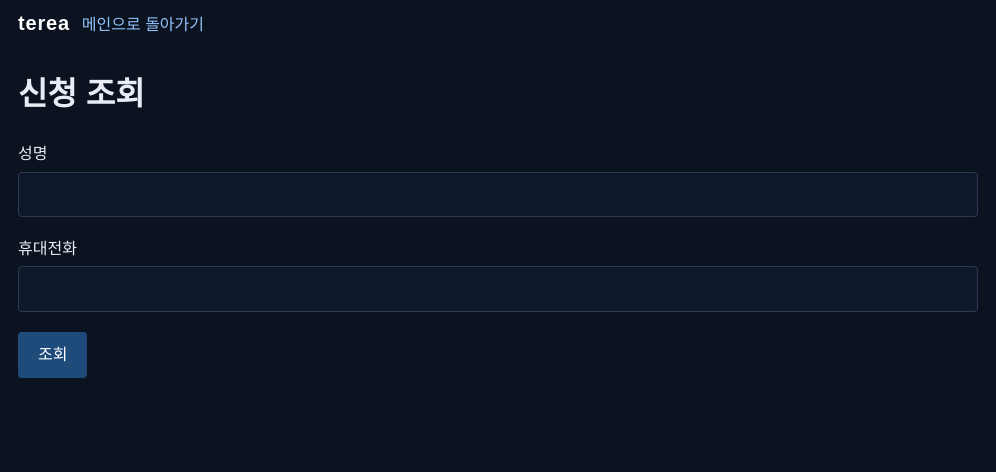
Test: R16: 방문 신청 조회 텍스트 대비 › 다크 테마에서도 조회 결과 성명·상태가 렌더된다
Type "terea방문테스터" into the field labelled "성명" at (498, 194), box x1=18 y1=172 x2=978 y2=217
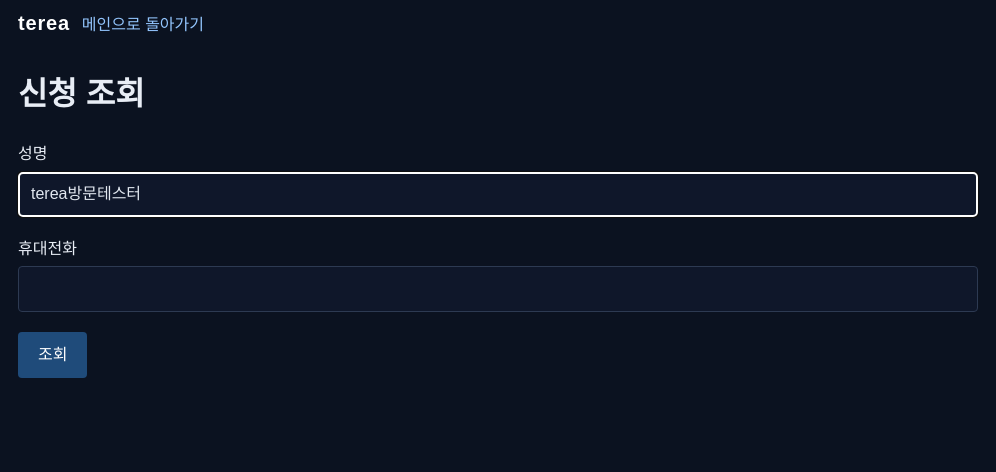
Type "01022223333" into the field labelled "휴대전화" at (498, 289), box x1=18 y1=266 x2=978 y2=312
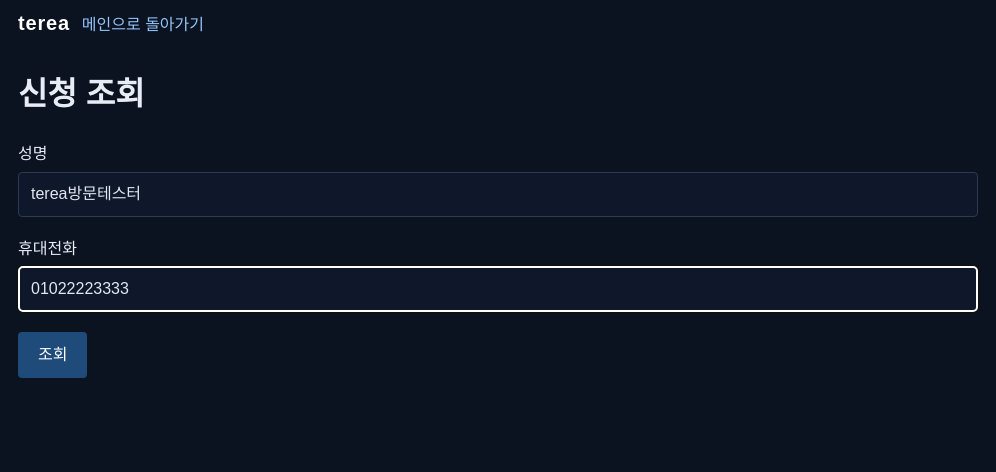
Click the button "조회" at (53, 355), box x1=18 y1=332 x2=88 y2=378
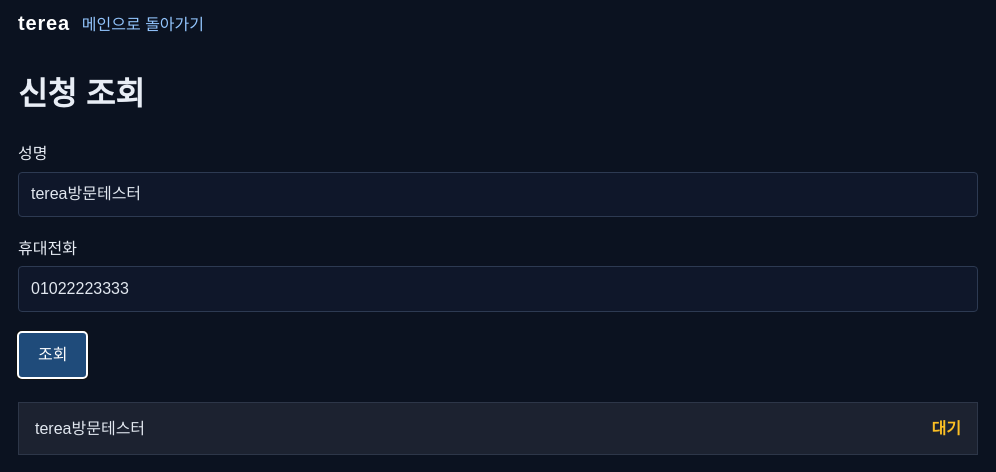
Now the text "대기" is shown, box x1=932 y1=416 x2=961 y2=440
